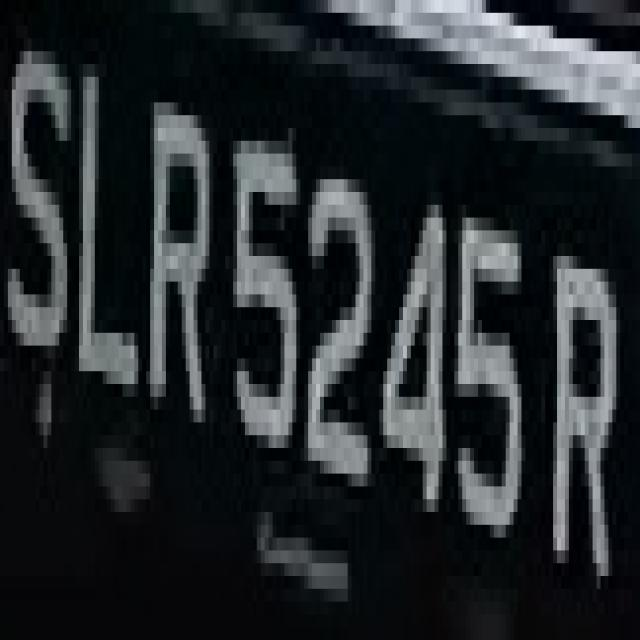2: (300, 166, 383, 564)
4: (380, 167, 450, 550)
5: (221, 77, 304, 550), (454, 140, 522, 602)
L: (67, 51, 142, 448)
R: (541, 230, 628, 640), (150, 38, 217, 461)
S: (16, 38, 67, 384)
